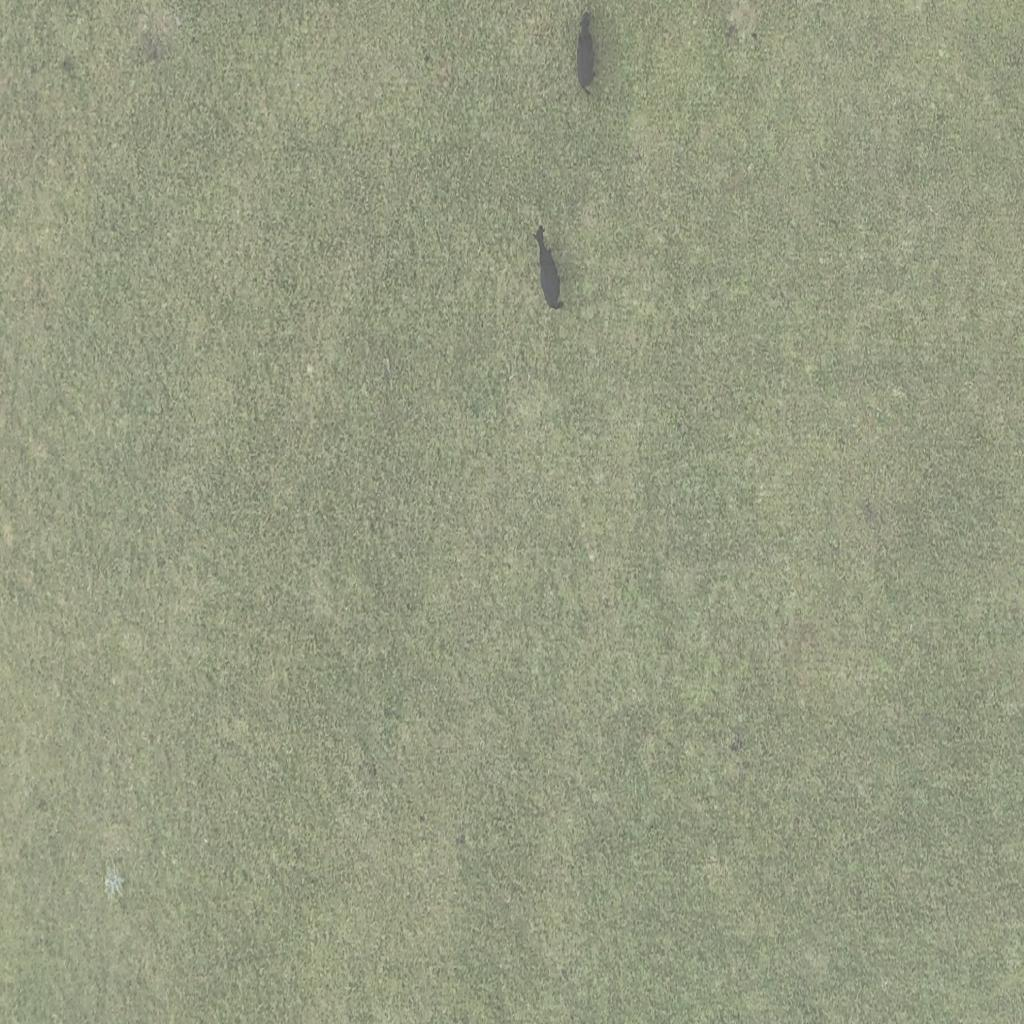cow: (531, 224, 563, 316), (574, 12, 597, 98), (104, 863, 126, 903)
